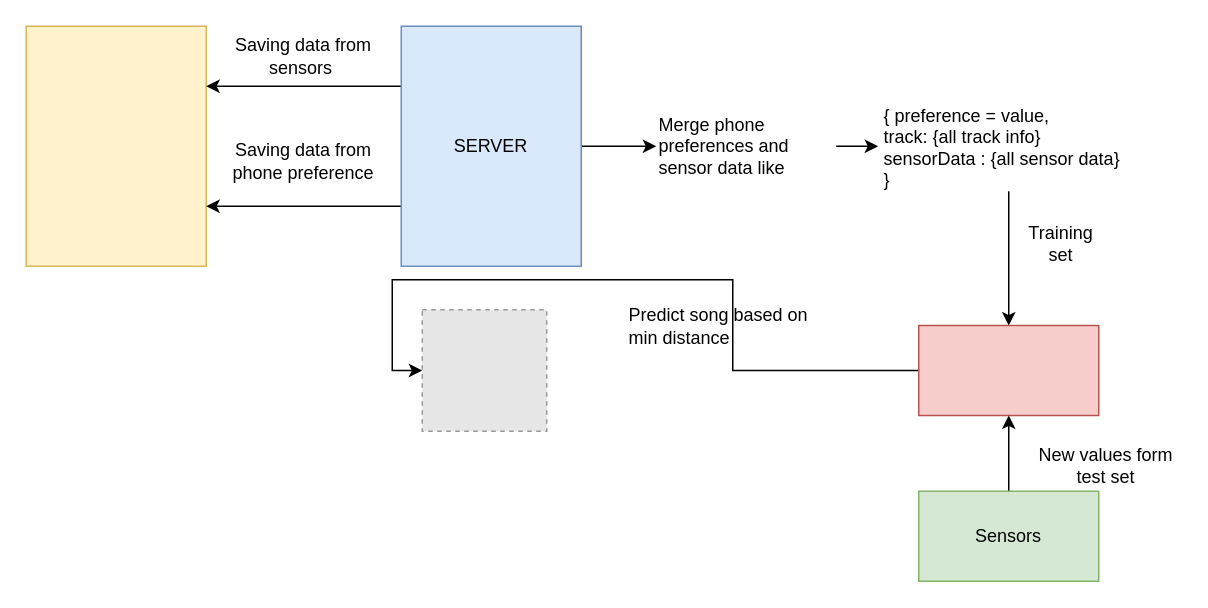
Image size: 1208x608. Some labels were removed from this diagram. Grey dashed boxes stand in for pictures. The box of each missing label's shape, as (x1, y1, x2, y2) in pixels:
DB: (25, 25, 206, 266)
Machine Learning: (917, 324, 1099, 416)
